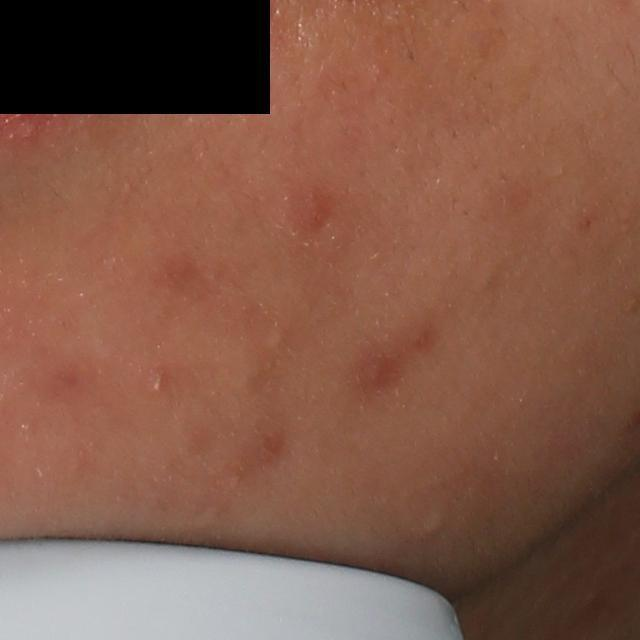comedo: (419, 508, 452, 542)
